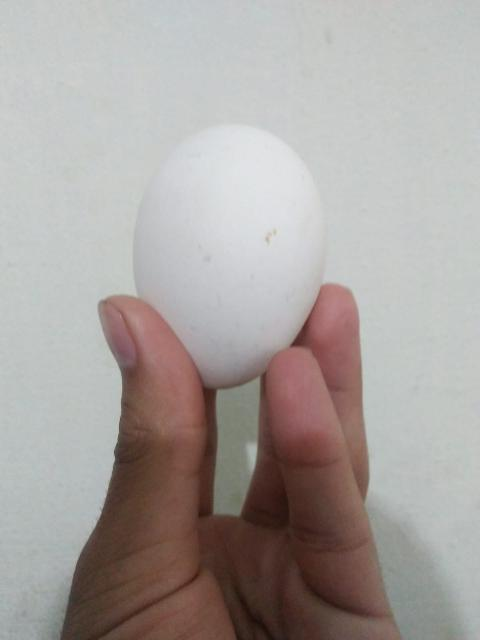Sano: (131, 121, 325, 389)
